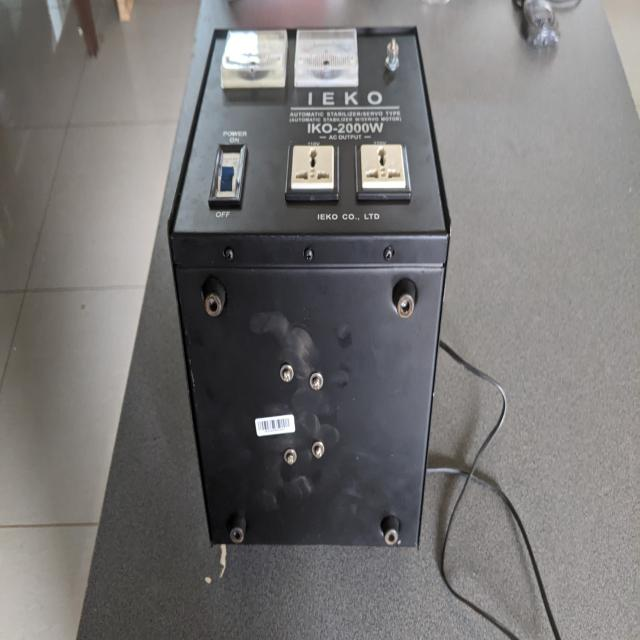AC POWER Stabilizer: (166, 18, 458, 566)
